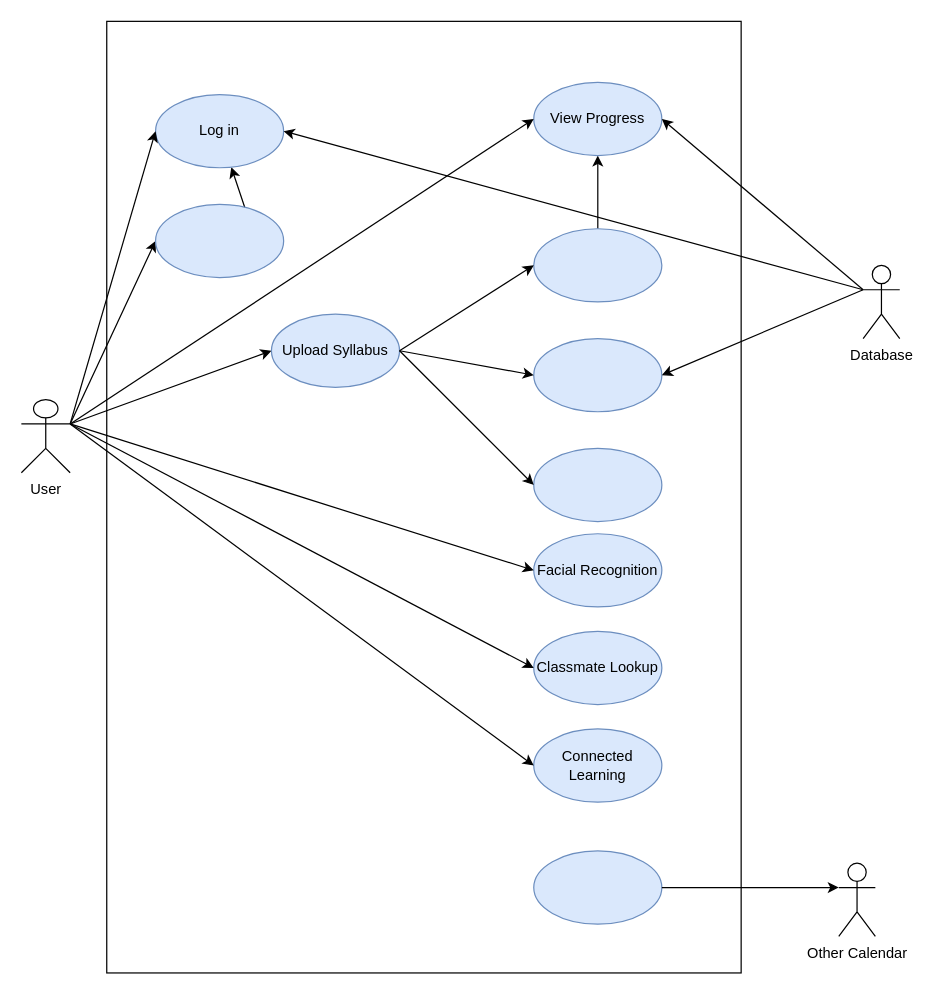
Image size: 933x994. Some labels were removed from this diagram. Each missing label, with the centre of its shape:
Estimate Task Duration: pixel 597 484
Export to Other Calendars: pixel 597 887
Generate Tasks: pixel 597 265
Prioritize Tasks: pixel 597 374
Register: pixel 219 240
